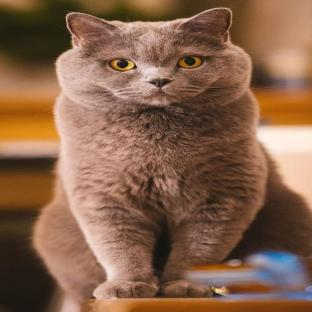Animal: (33, 8, 312, 302)
